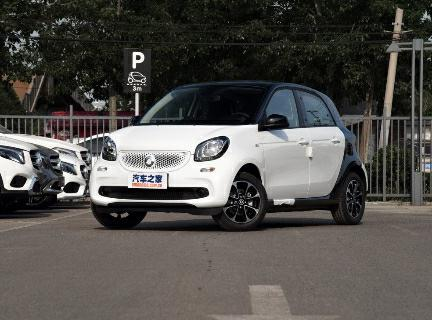smart-forfour: (82, 83, 373, 234)
